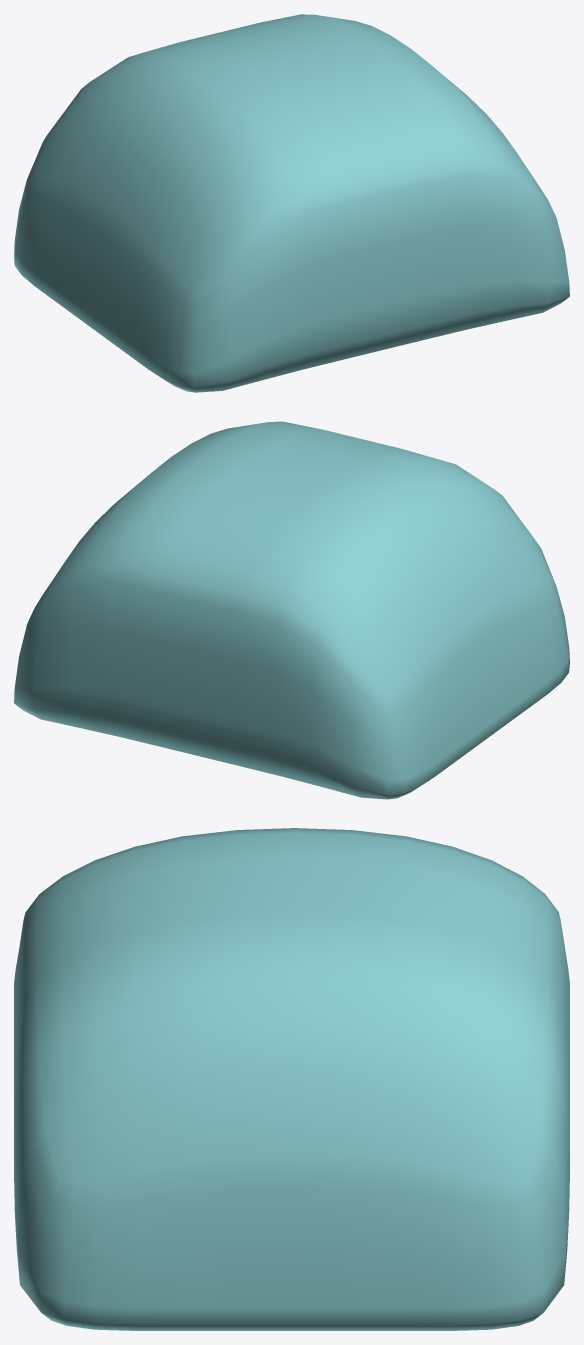
File: rock_neige_01.fbx
3 renders of one model, top to bottom at view 1: azimuth 30°, elevation 25°; view 2: azimuth 150°, elevation 25°; view 3: azimuth 270°, elevation 25°, orthographic. The views are drawn at different scales.
Parts seen in each view (by area): view 1: Box003; view 2: Box003; view 3: Box003.
Part boxes in pixels (<box>): Box003: <box>14,14,569,392</box>; Box003: <box>14,421,569,799</box>; Box003: <box>14,828,569,1330</box>.
Bounding box in the file's own units: 510 × 282 × 441.
